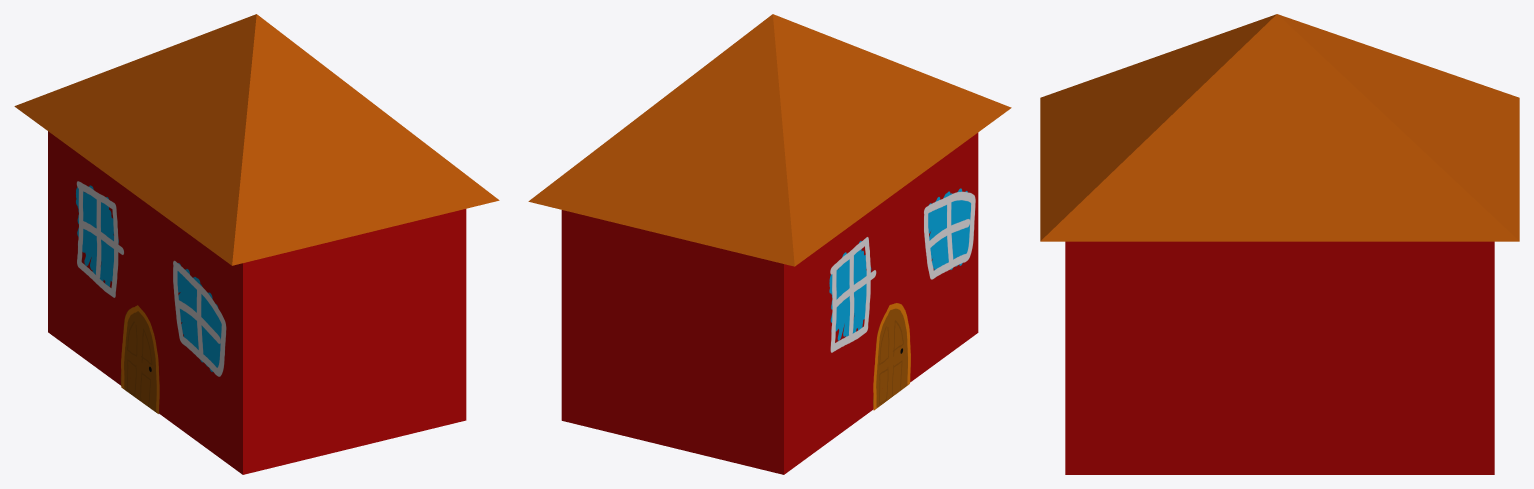
File: red_house.glb
3 renders of one model, left to right at view 1: azimuth 30°, elevation 25°; view 2: azimuth 150°, elevation 25°; view 3: azimuth 270°, elevation 25°, orthographic. The views are drawn at different scales.
Visible parts, largest first — view 1: RedHouse.008, Roof.008, Decorations.008; view 2: RedHouse.008, Roof.008, Decorations.008; view 3: RedHouse.008, Roof.008.
Part boxes in pixels (x1,y1,x2,y2): RedHouse.008: (48,131,466,474); Roof.008: (14,14,499,265); Decorations.008: (76,181,226,413); RedHouse.008: (561,132,978,474); Roof.008: (528,14,1011,266); Decorations.008: (829,188,975,410); RedHouse.008: (1065,241,1494,474); Roof.008: (1040,14,1519,241).
Bounding box in the file's own units: 12.2 × 15.83 × 17.2.
3 materials, 3 textured.
